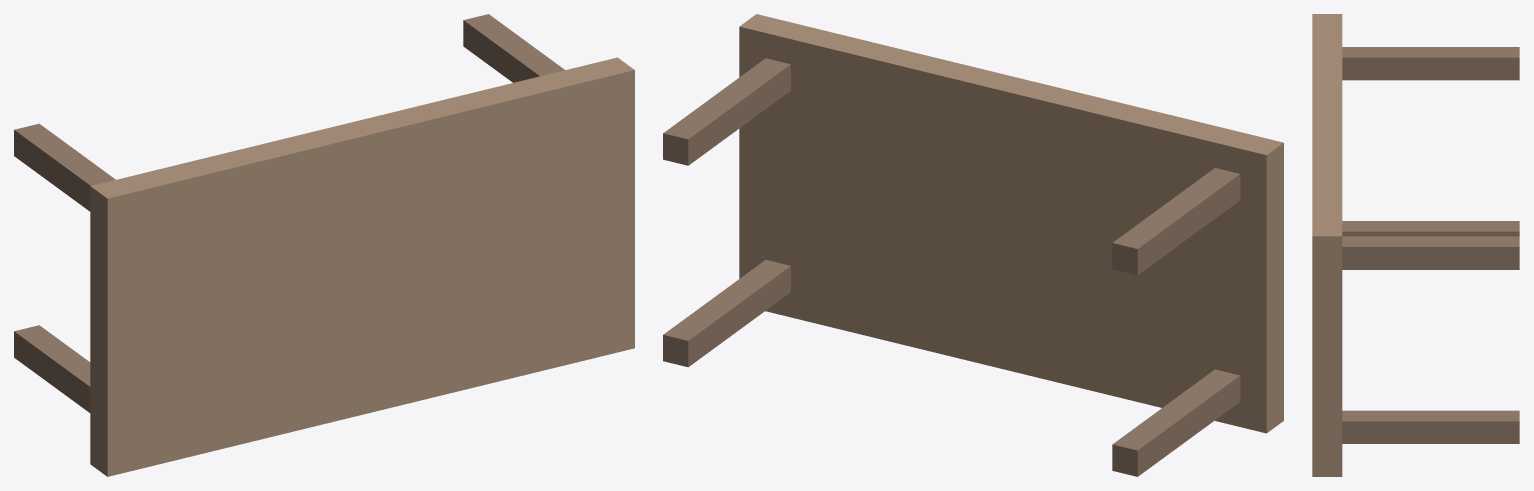
File: coffee-table.glb
3 views of the same model, side by side, from view 1: azimuth 30°, elevation 25°; view 2: azimuth 150°, elevation 25°; view 3: azimuth 270°, elevation 25° (orthographic). The views are drawn at different scales.
Parts seen in each view (by area): view 1: wood tabletop, wood leg_1, wood leg, wood leg_3; view 2: wood tabletop, wood leg, wood leg_1, wood leg_2, wood leg_3; view 3: wood tabletop, wood leg_1, wood leg_2, wood leg_3, wood leg.
Part boxes in pixels (left/top/right/bottom): wood tabletop: left=90, top=57, right=634, bottom=476; wood leg_1: left=14, top=123, right=115, bottom=211; wood leg: left=14, top=325, right=90, bottom=412; wood leg_3: left=463, top=14, right=564, bottom=82; wood tabletop: left=739, top=14, right=1283, bottom=433; wood leg: left=1112, top=369, right=1240, bottom=476; wood leg_1: left=1112, top=168, right=1240, bottom=275; wood leg_2: left=663, top=260, right=790, bottom=367; wood leg_3: left=663, top=58, right=790, bottom=165; wood tabletop: left=1312, top=14, right=1342, bottom=476; wood leg_1: left=1342, top=47, right=1519, bottom=80; wood leg_2: left=1342, top=410, right=1519, bottom=443; wood leg_3: left=1342, top=236, right=1519, bottom=269; wood leg: left=1342, top=221, right=1519, bottom=236.
Bounding box in the file's own units: 1.15 × 0.58 × 0.4525.
